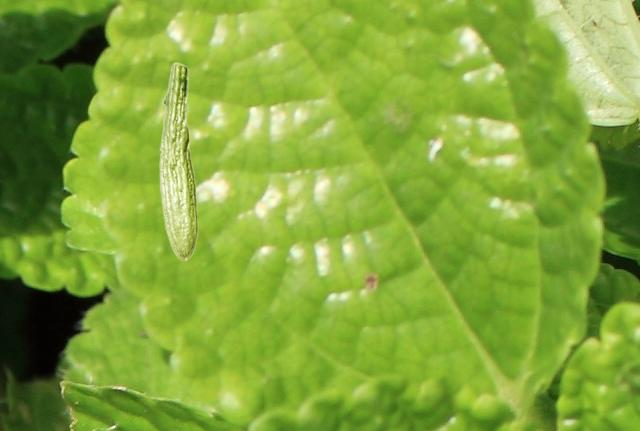ampalaya: (158, 62, 198, 261)
